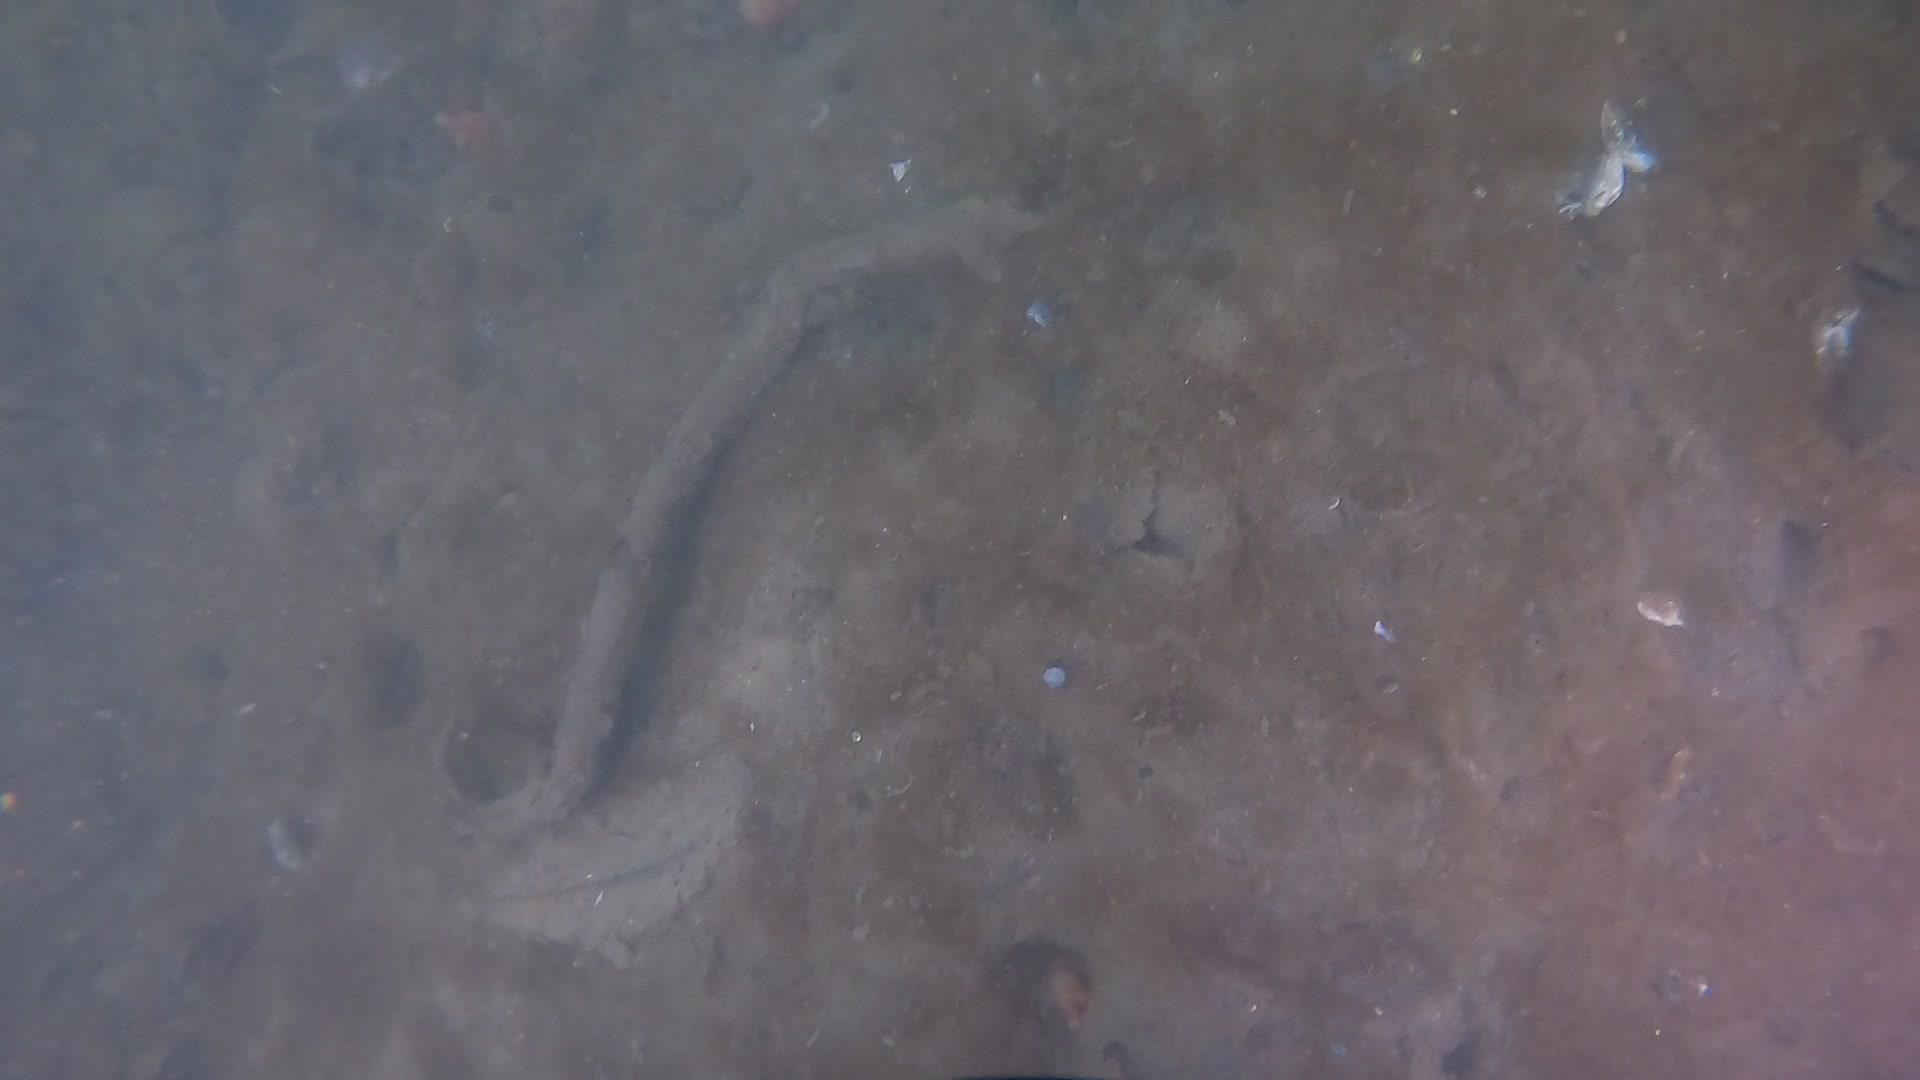wood: (430, 193, 1046, 841)
